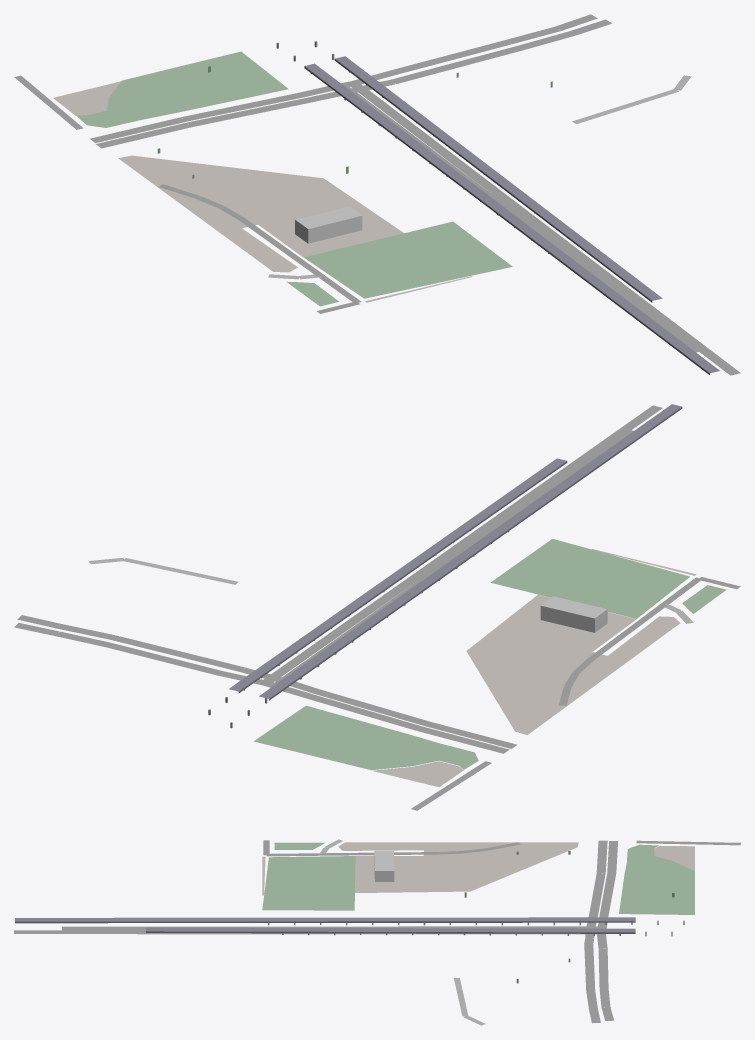
3 views of the same model, one above another, from view 1: azimuth 30°, elevation 25°; view 2: azimuth 150°, elevation 25°; view 3: azimuth 270°, elevation 25° (orthographic). The views are drawn at different scales.
Bounding box in the file's own units: 521 × 15.3 × 840.
